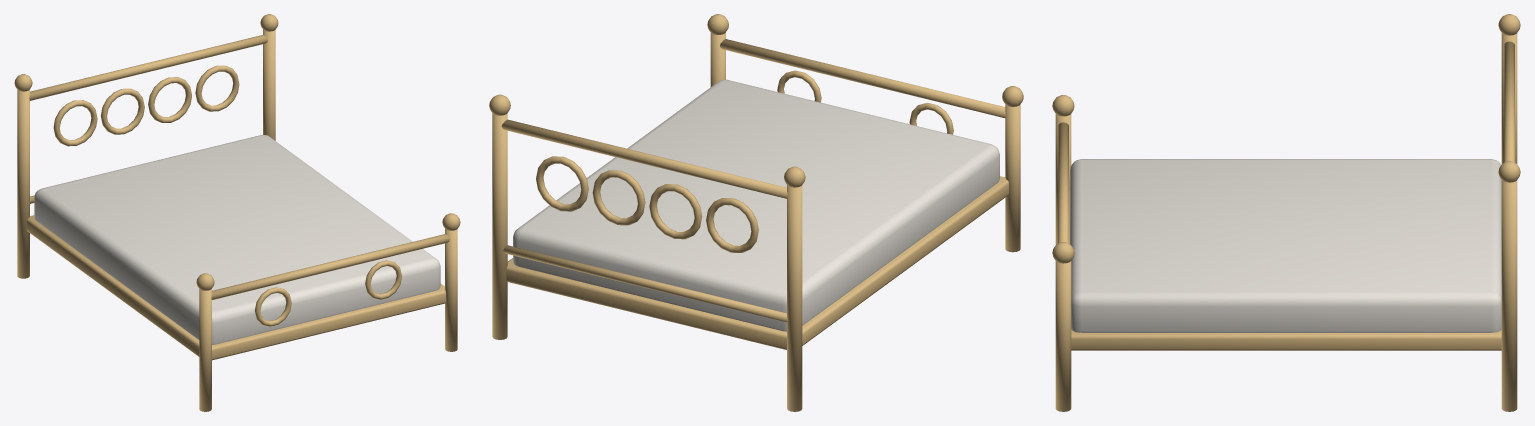
The model's file is vintage_bed_01.glb.
3 views of the same model, side by side, from view 1: azimuth 30°, elevation 25°; view 2: azimuth 150°, elevation 25°; view 3: azimuth 270°, elevation 25° (orthographic). The views are drawn at different scales.
Visible parts, largest first — view 1: vintage_bed_01; view 2: vintage_bed_01; view 3: vintage_bed_01.
Boxes of the visible parts, left/top/right/bottom form: vintage_bed_01: left=14, top=14, right=460, bottom=411; vintage_bed_01: left=489, top=14, right=1023, bottom=411; vintage_bed_01: left=1052, top=14, right=1520, bottom=411.
Size of the model in its own units: 1.66 by 1.22 by 2.1.
